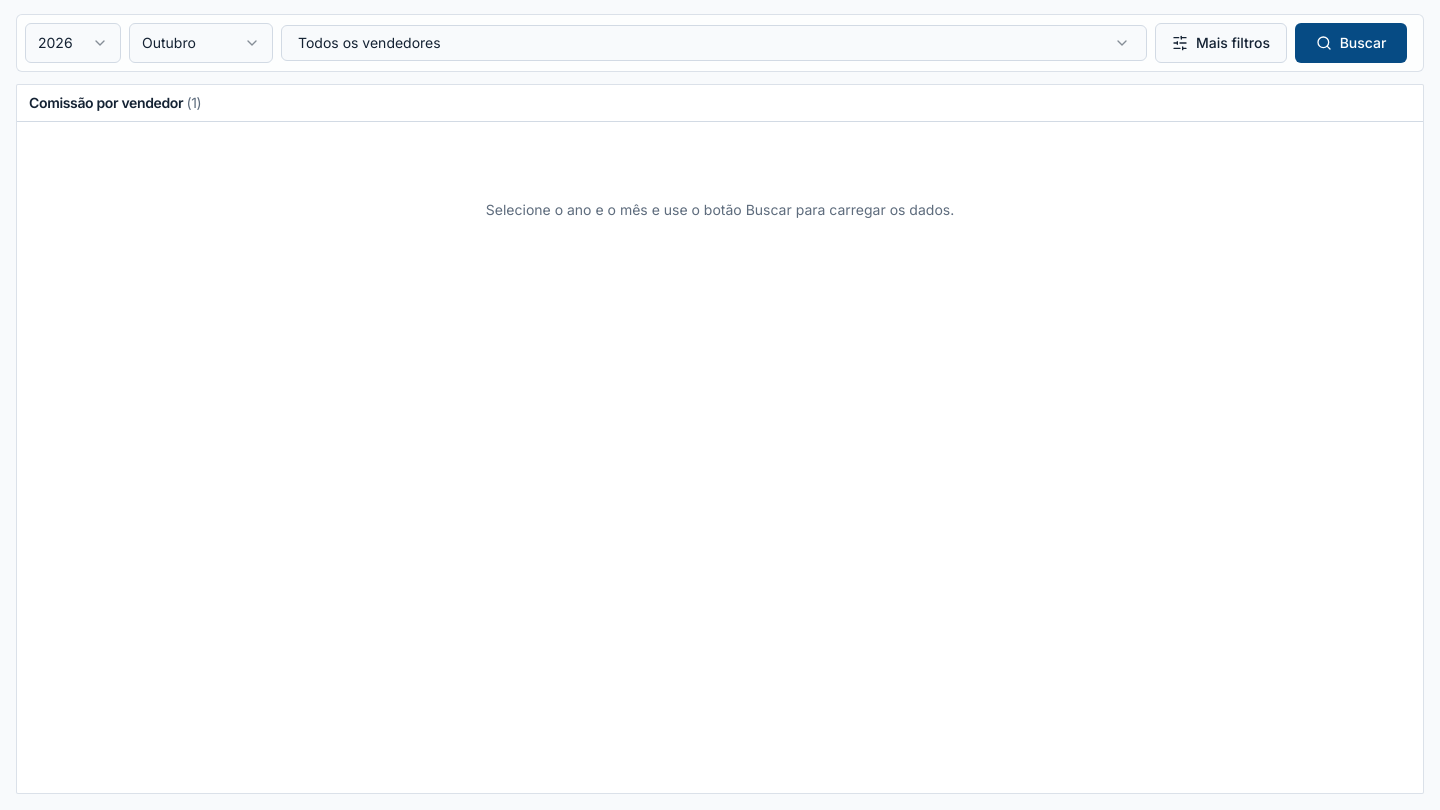
Test case: ComissaoPage › mostra indicadores compactos depois da consulta e preserva zero monetario
Click the button "Buscar".
click(1351, 43)  # box [1295,23,1407,63]
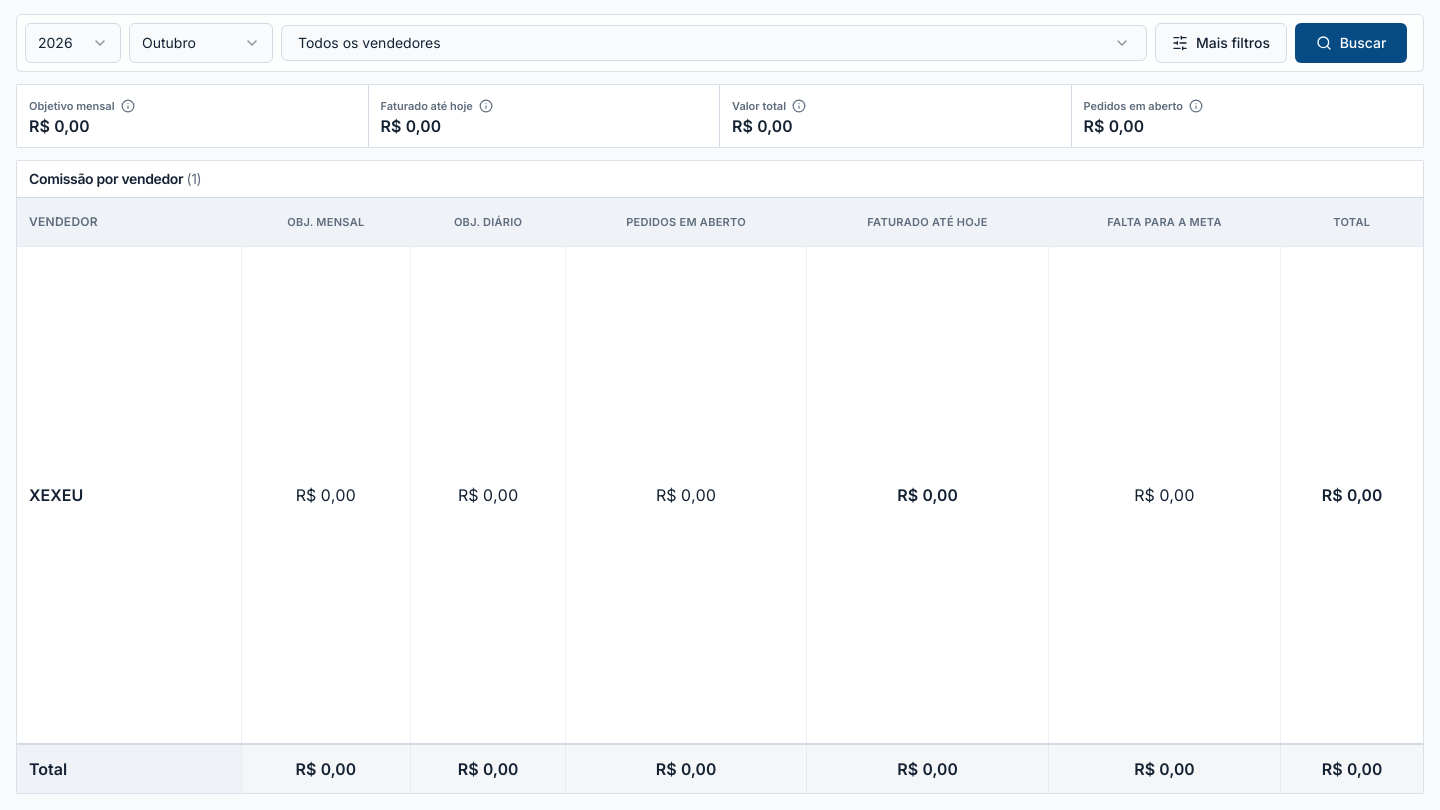
Expected: the element named "Indicadores comerciais" shows "Objetivo mensal", [29,99,115,113]
Expected: the element named "Indicadores comerciais" shows "Faturado até hoje", [380,99,473,113]
Expected: the element named "Indicadores comerciais" shows "Valor total", [732,99,786,113]
